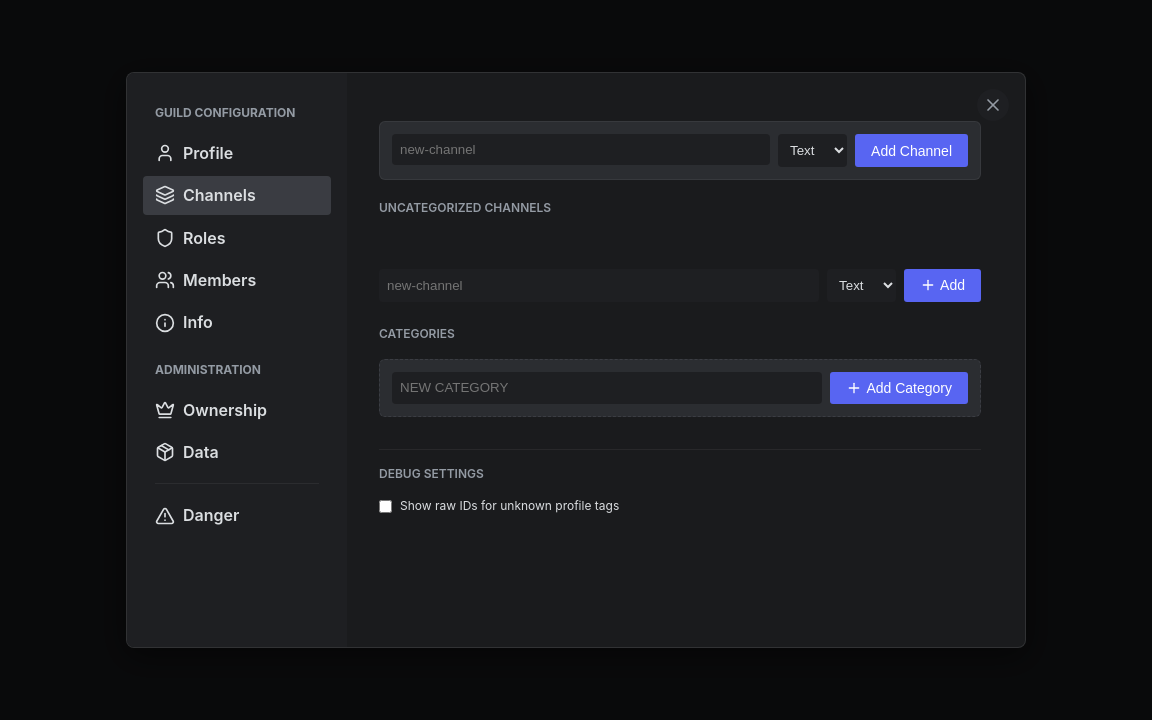
Test case: P15 — Guild Settings › guild owner sees the transfer ownership section
This screenshot has width=1152, height=720.
Note: Click ownership tab
Click the element with test id "tab-ownership" at (211, 410), box [155, 400, 267, 420]
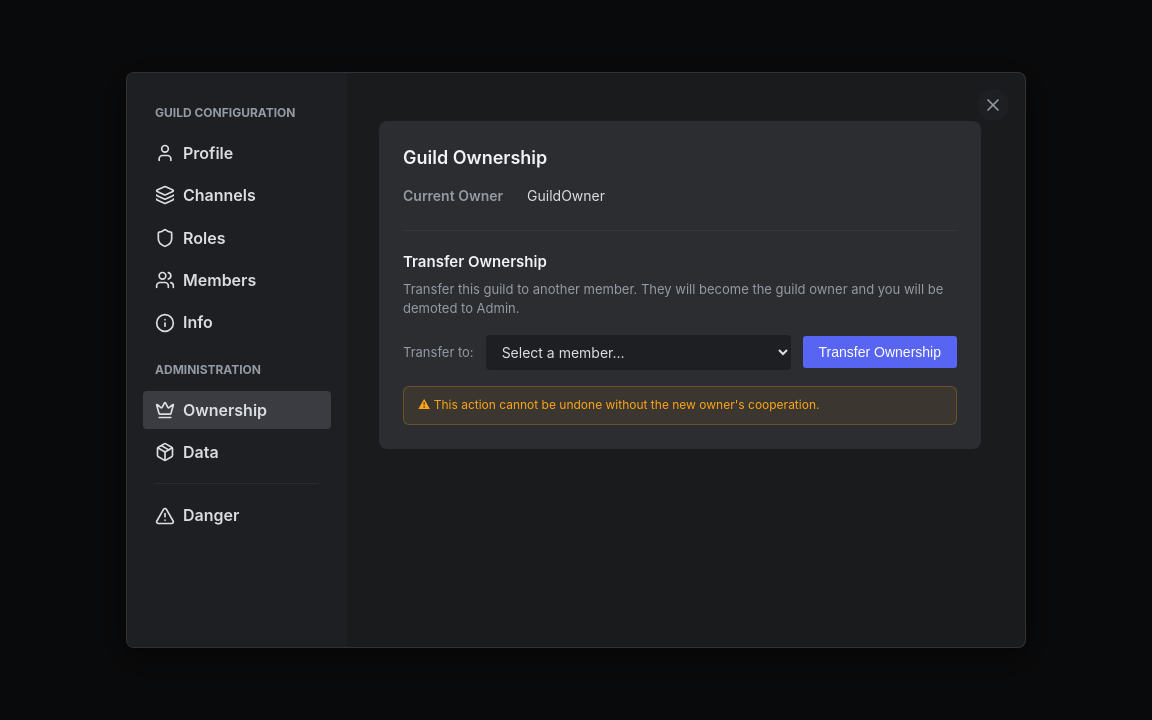
expect the element with test id "ownership-section" is shown: met, box [379, 121, 981, 449]
expect the text "GuildOwner" is shown: met, box [527, 187, 605, 204]
